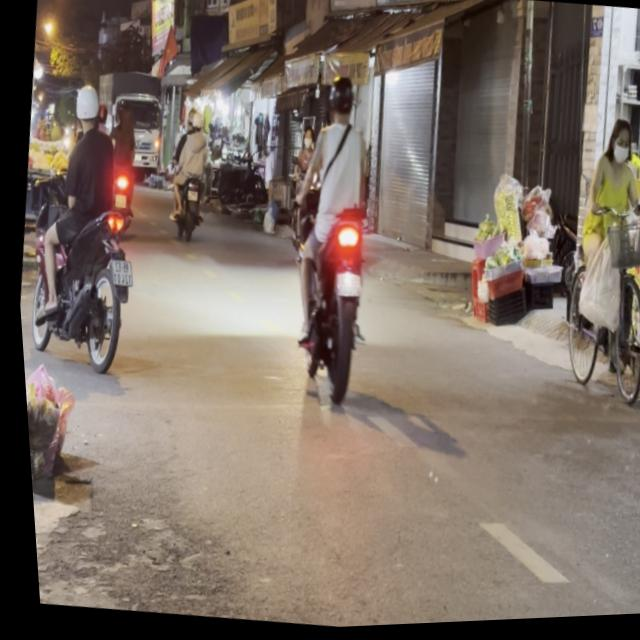helmet: (325, 74, 360, 125), (70, 82, 104, 132)
licenseplate: (7, 74, 160, 378), (265, 67, 397, 409)
nohelmet: (330, 272, 360, 300), (103, 257, 131, 286)
